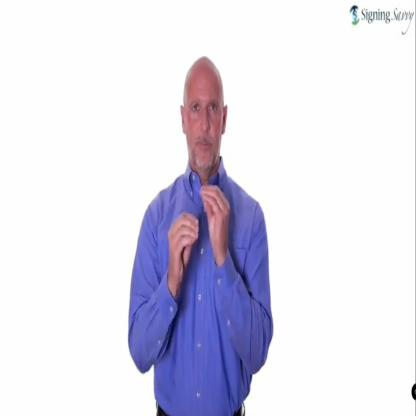Fix: (158, 175, 234, 286)
